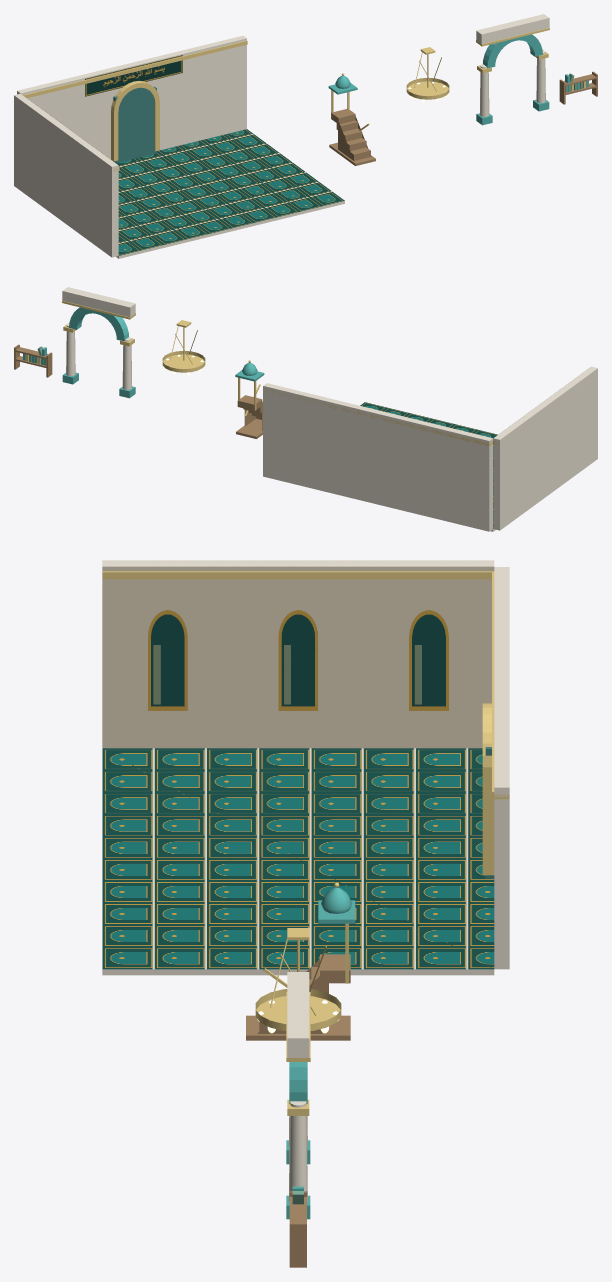
Rendered from kit-10-interior-masjid.glb.
3 renders of one model, top to bottom at view 1: azimuth 30°, elevation 25°; view 2: azimuth 150°, elevation 25°; view 3: azimuth 270°, elevation 25°, orthographic. The views are drawn at different scales.
Visible parts, largest first — view 1: MasjidIn_Ruang, MasjidIn_ArkadePilar, MasjidIn_Minbar, MasjidIn_LampuGantung, MasjidIn_RakQuran; view 2: MasjidIn_Ruang, MasjidIn_ArkadePilar, MasjidIn_Minbar, MasjidIn_LampuGantung, MasjidIn_RakQuran; view 3: MasjidIn_Ruang, MasjidIn_ArkadePilar, MasjidIn_Minbar, MasjidIn_LampuGantung, MasjidIn_RakQuran.
Boxes of the visible parts, <box> form: MasjidIn_Ruang: <box>14,35,344,258</box>; MasjidIn_ArkadePilar: <box>476,14,549,125</box>; MasjidIn_Minbar: <box>328,73,375,165</box>; MasjidIn_LampuGantung: <box>406,47,449,102</box>; MasjidIn_RakQuran: <box>559,71,597,104</box>; MasjidIn_Ruang: <box>263,366,597,531</box>; MasjidIn_ArkadePilar: <box>62,287,135,398</box>; MasjidIn_Minbar: <box>235,360,264,438</box>; MasjidIn_LampuGantung: <box>162,320,205,375</box>; MasjidIn_RakQuran: <box>14,344,52,377</box>; MasjidIn_Ruang: <box>102,560,509,975</box>; MasjidIn_ArkadePilar: <box>286,972,310,1219</box>; MasjidIn_Minbar: <box>246,882,355,1040</box>; MasjidIn_LampuGantung: <box>255,928,341,1033</box>; MasjidIn_RakQuran: <box>289,1186,306,1267</box>.
Bounding box in the file's own units: 28.26 × 4.75 × 9.35.
Materials: 11 (3 with a texture image).
